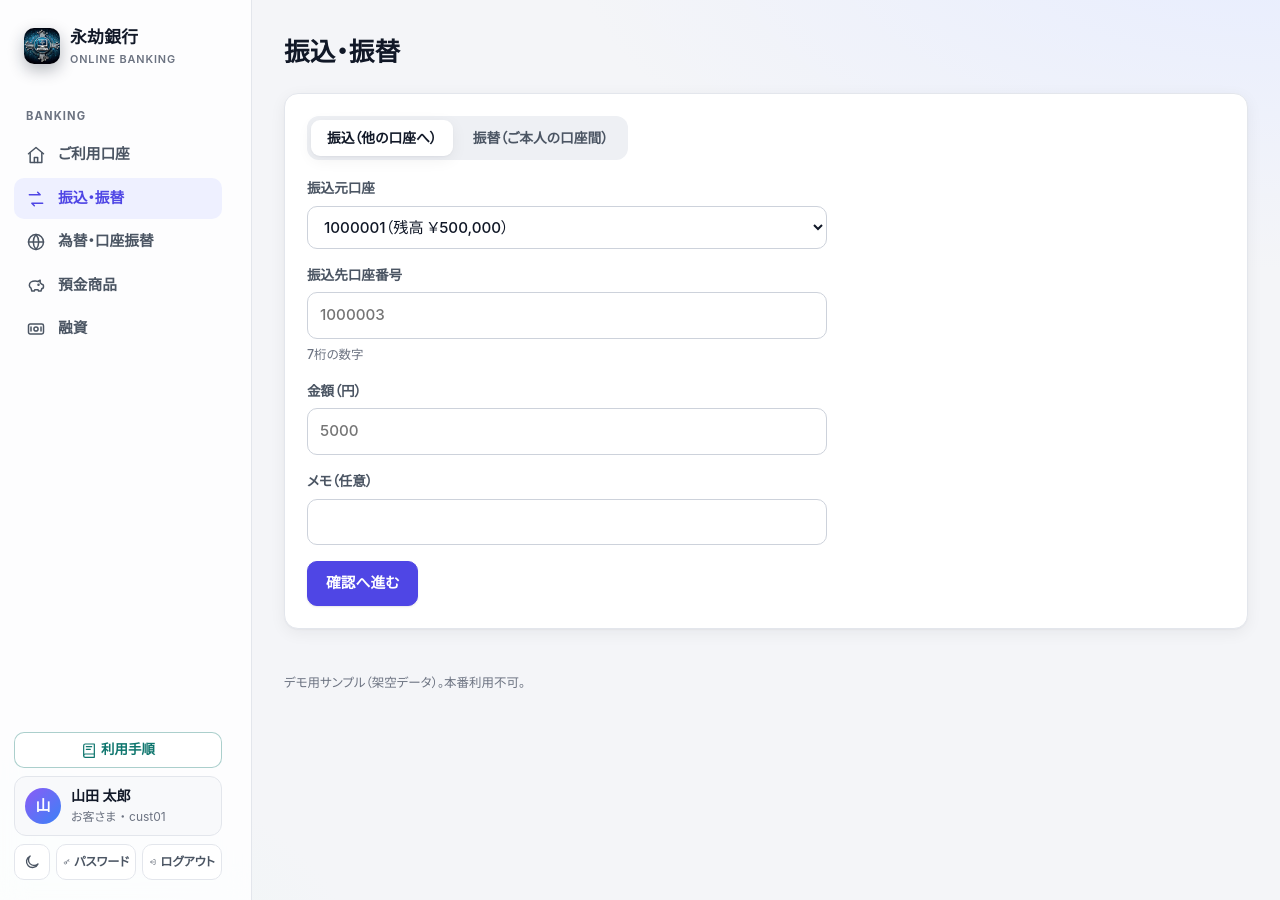
it: TransferPage › お客さま：振替は同じ名義の口座だけを候補にする
The width and height of the screenshot is (1280, 900).
Click the tab "振替（ご本人の口座間）" at [540, 138], box x1=457 y1=120 x2=624 y2=156
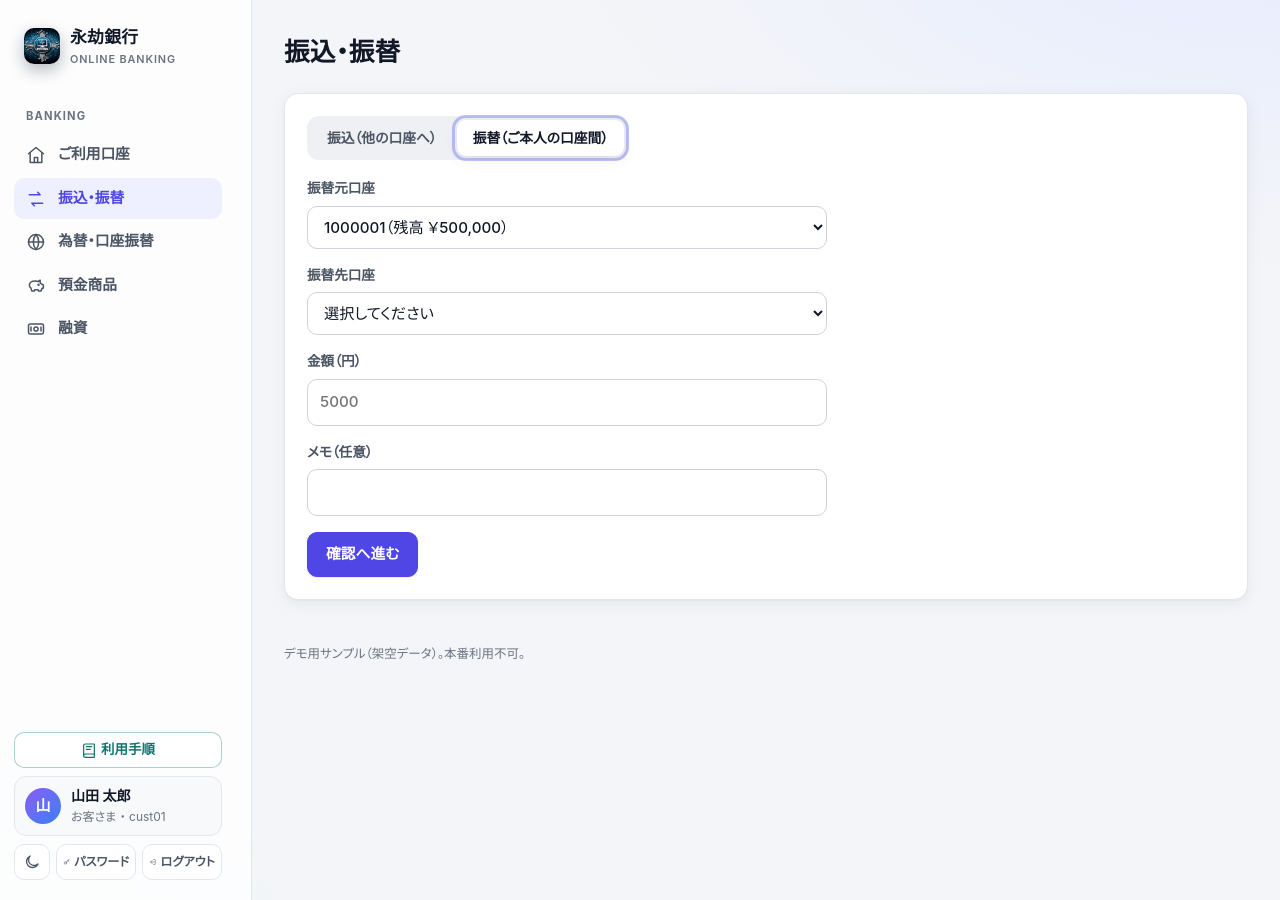
Select "1000002（残高 ￥100,000）" in the dropdown labelled "振替先口座" at [567, 314], box x1=307 y1=292 x2=827 y2=336
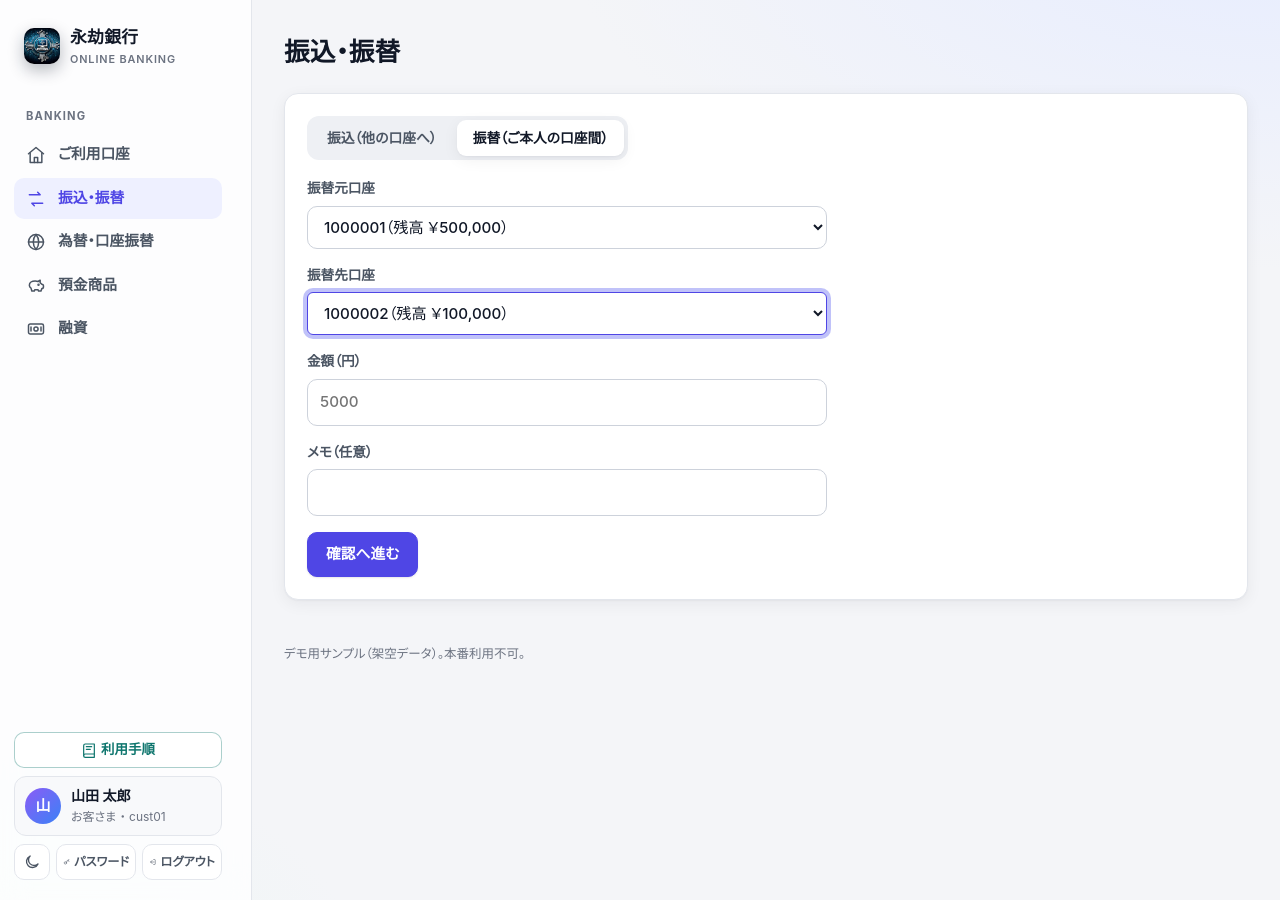
Type "1000" into the field labelled "金額（円）" at [567, 402], box x1=307 y1=379 x2=827 y2=426
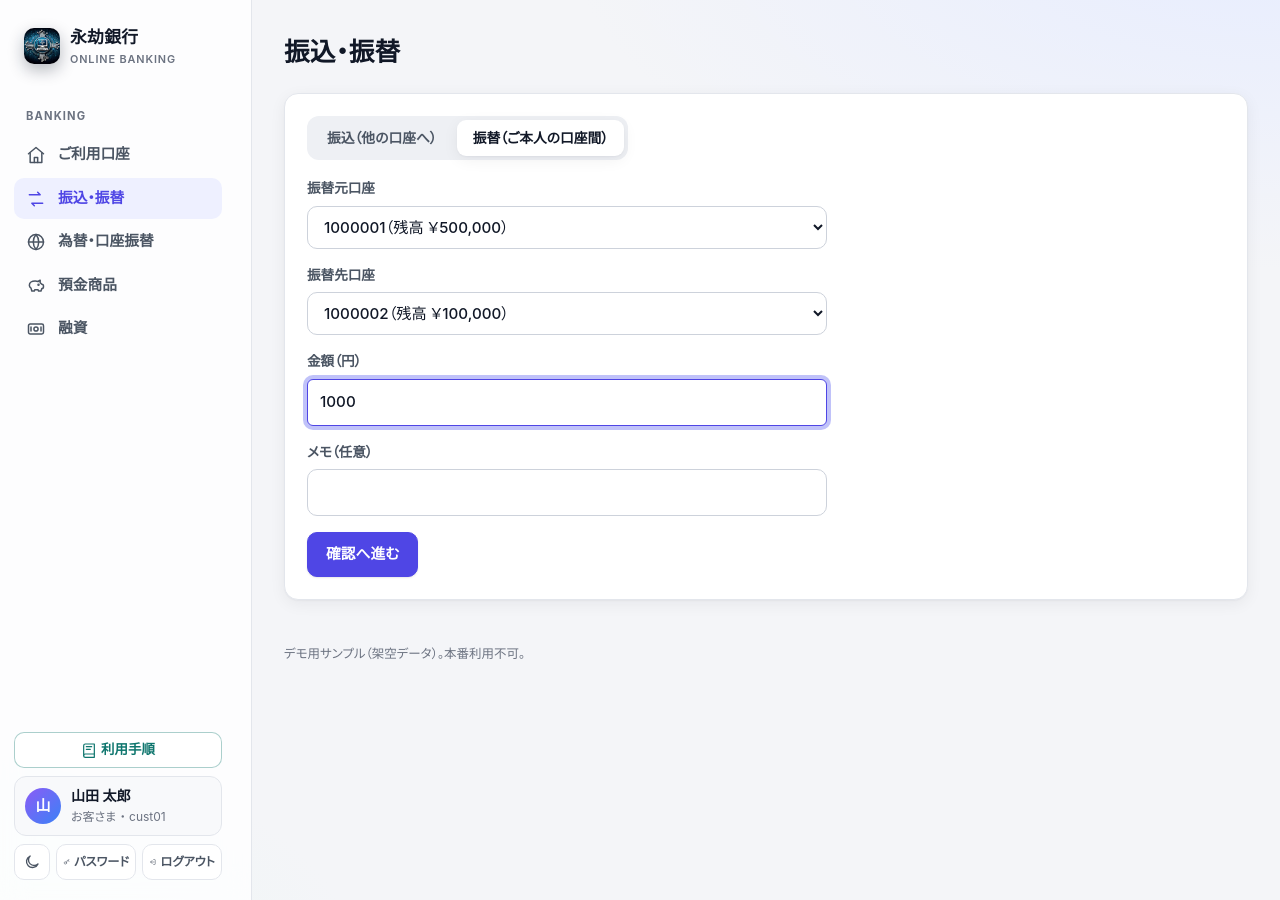
Click the button "確認へ進む" at [363, 554], box x1=307 y1=532 x2=418 y2=577
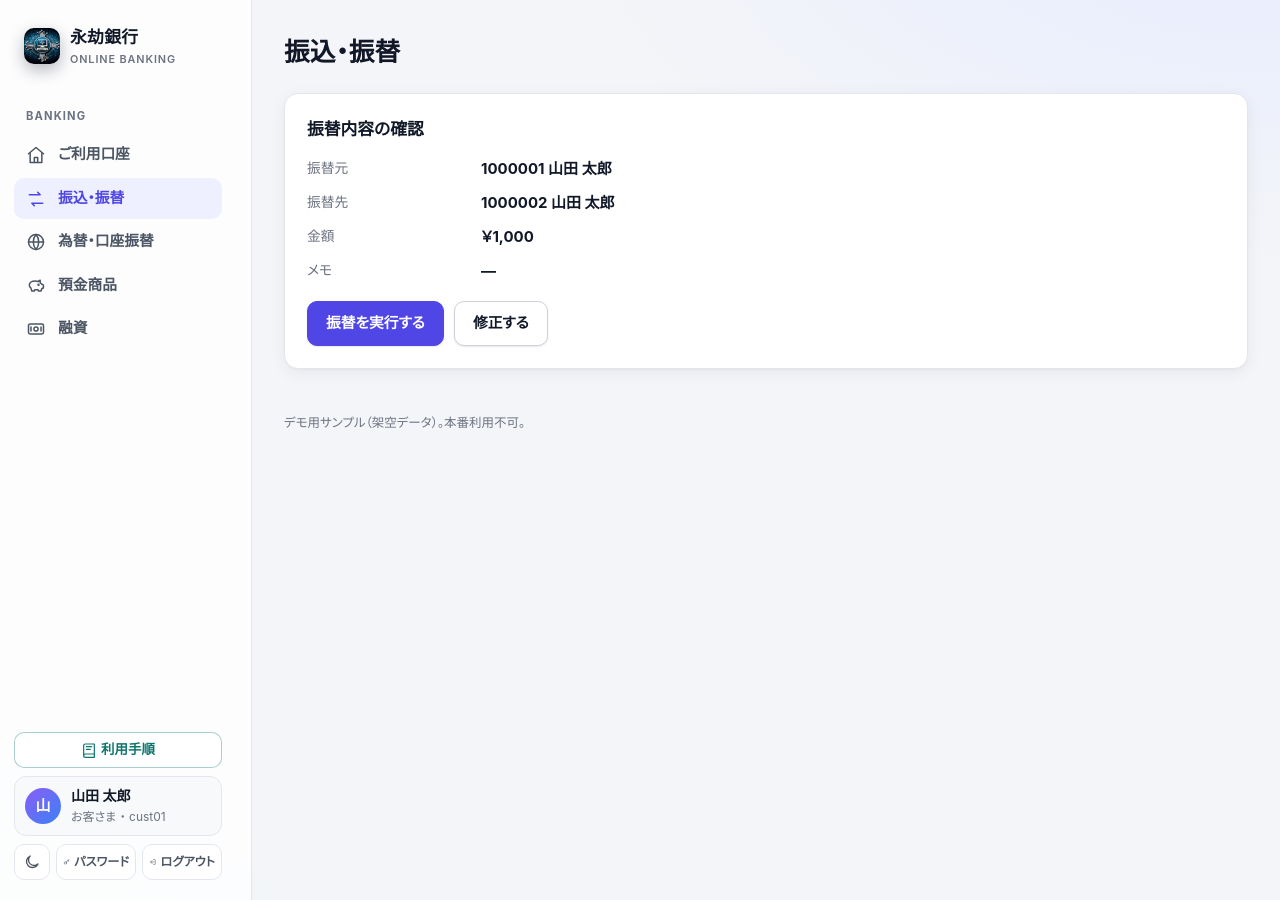
Click the button "振替を実行する" at [376, 324], box x1=307 y1=301 x2=444 y2=346
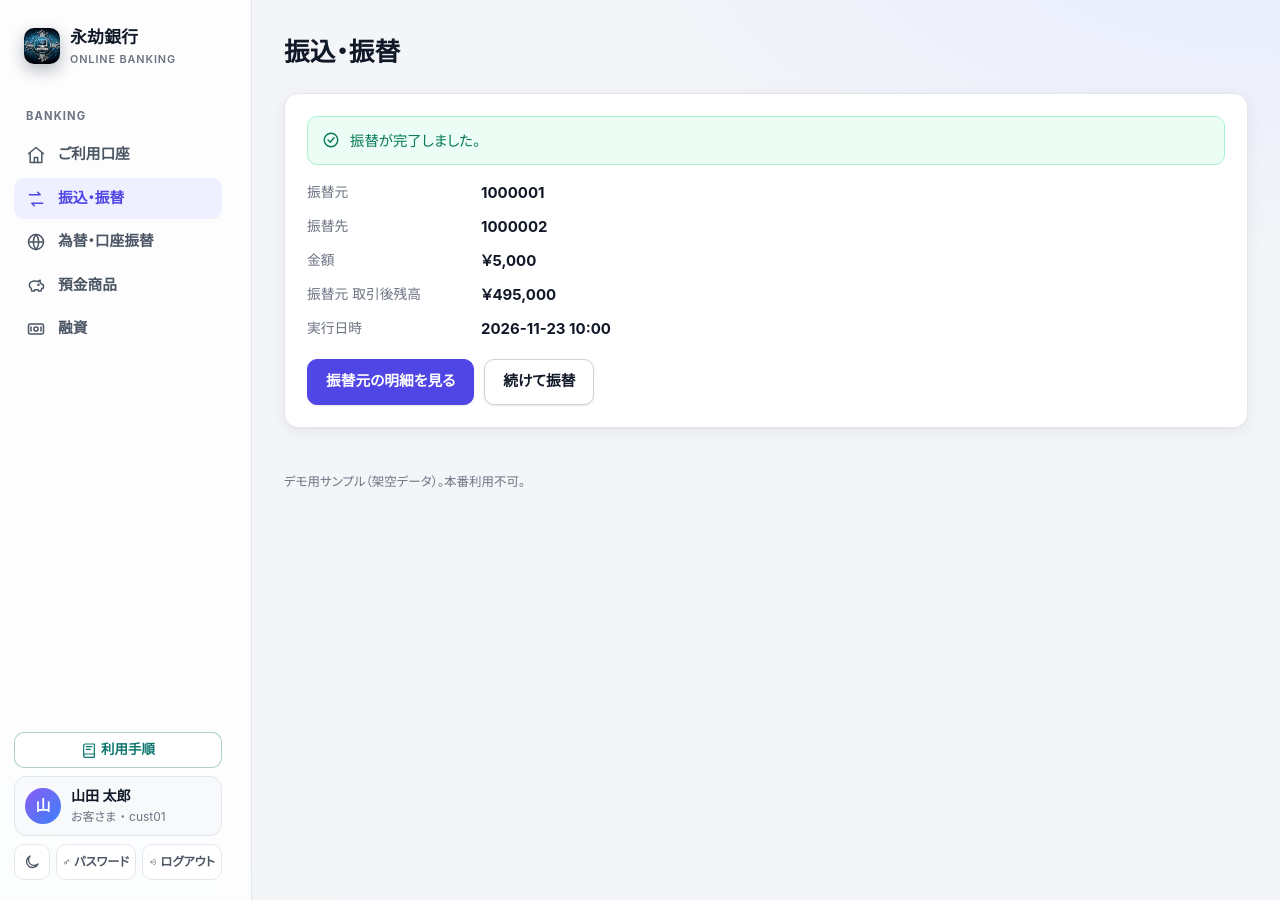
Expected: the text "振替が完了しました。" is shown, x1=350 y1=129 x2=480 y2=152
